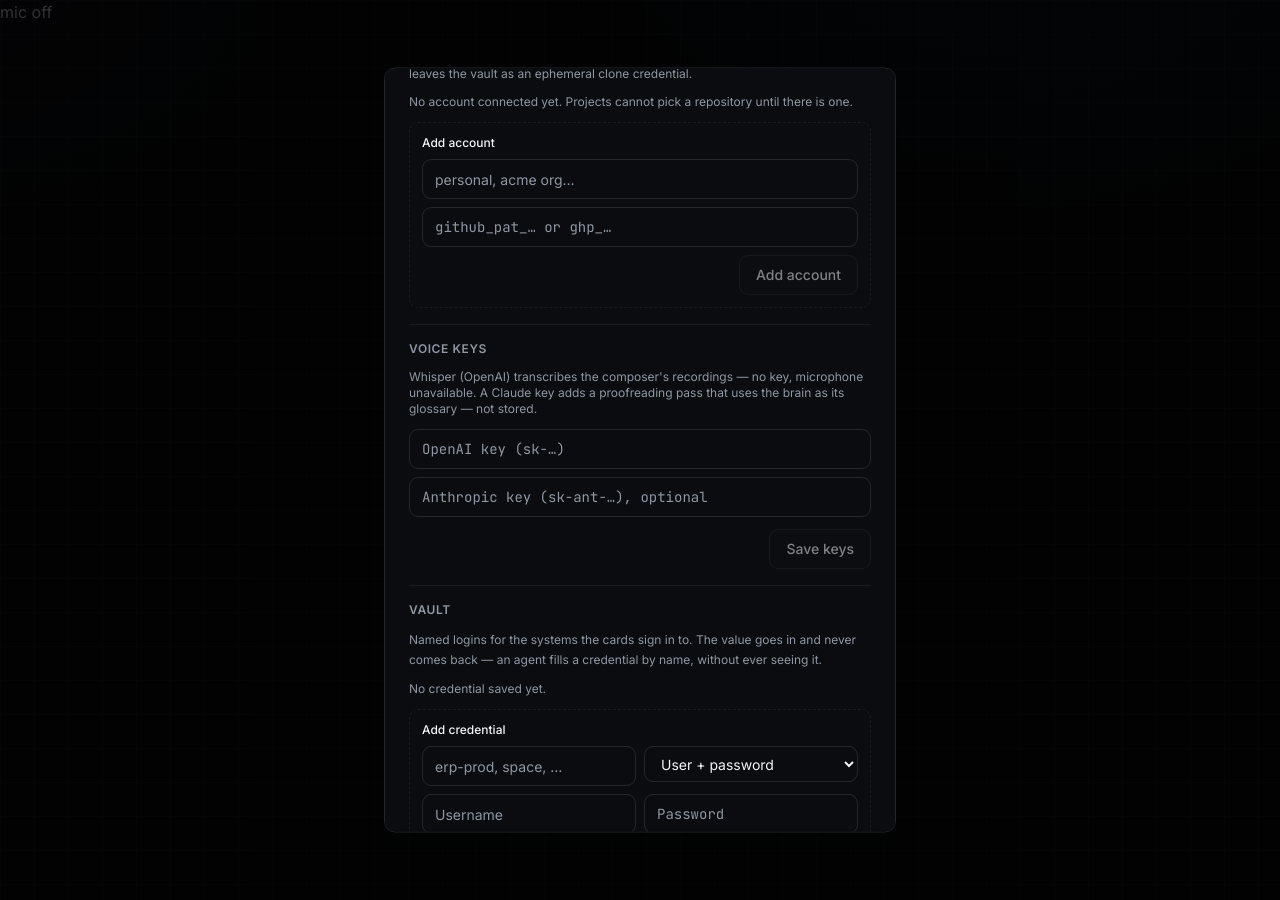
Test: SettingsDialog › a saved OpenAI key turns the composer's microphone on, not just the dialog's line
(page scrolled)
Expected: the text "mic off" is shown, [0,2,52,22]
Type "sk-openai-123" into the password field named "OpenAI API key" at (640, 450), box [409,430,871,470]
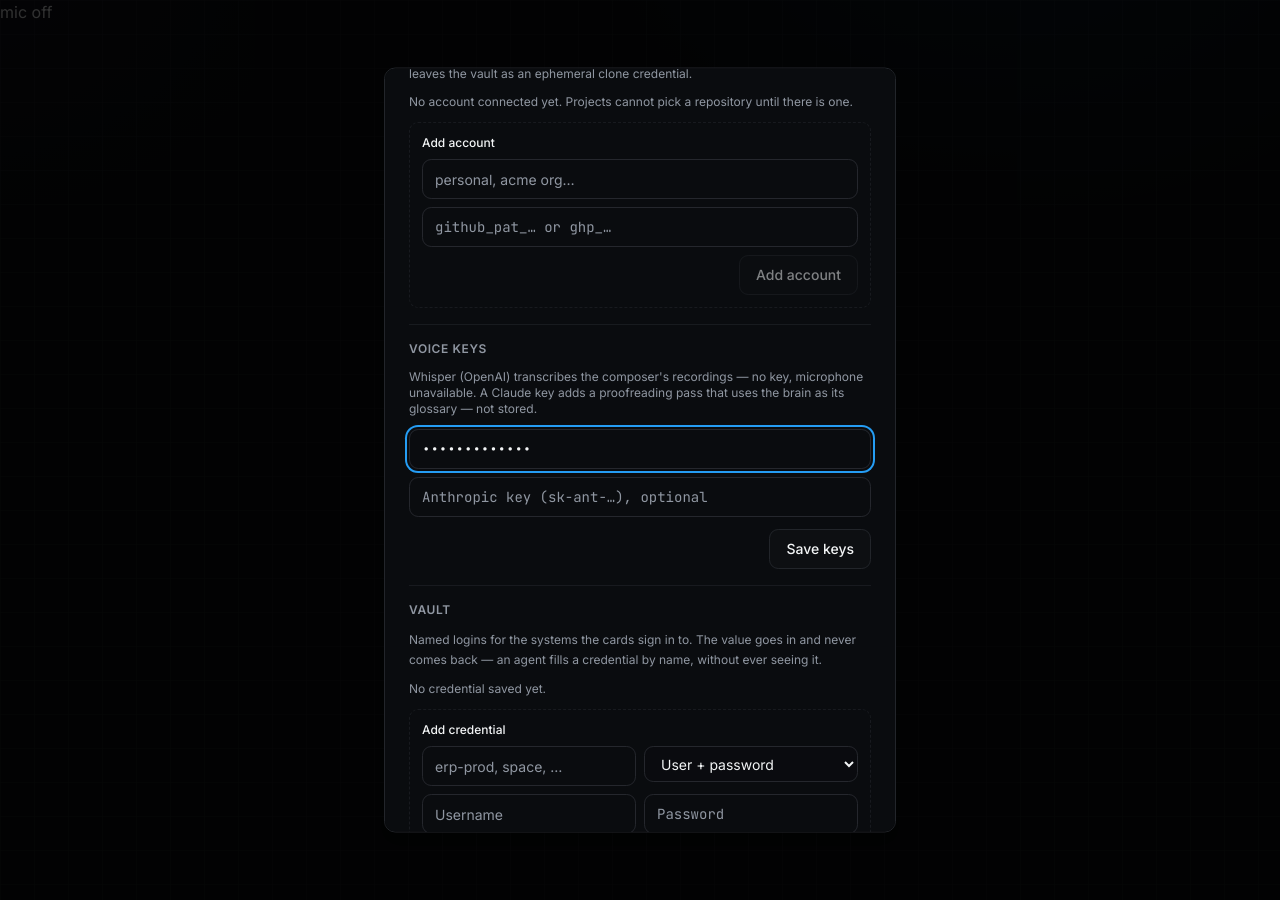
Click the button "Save keys" at (820, 550), box [769,530,871,570]
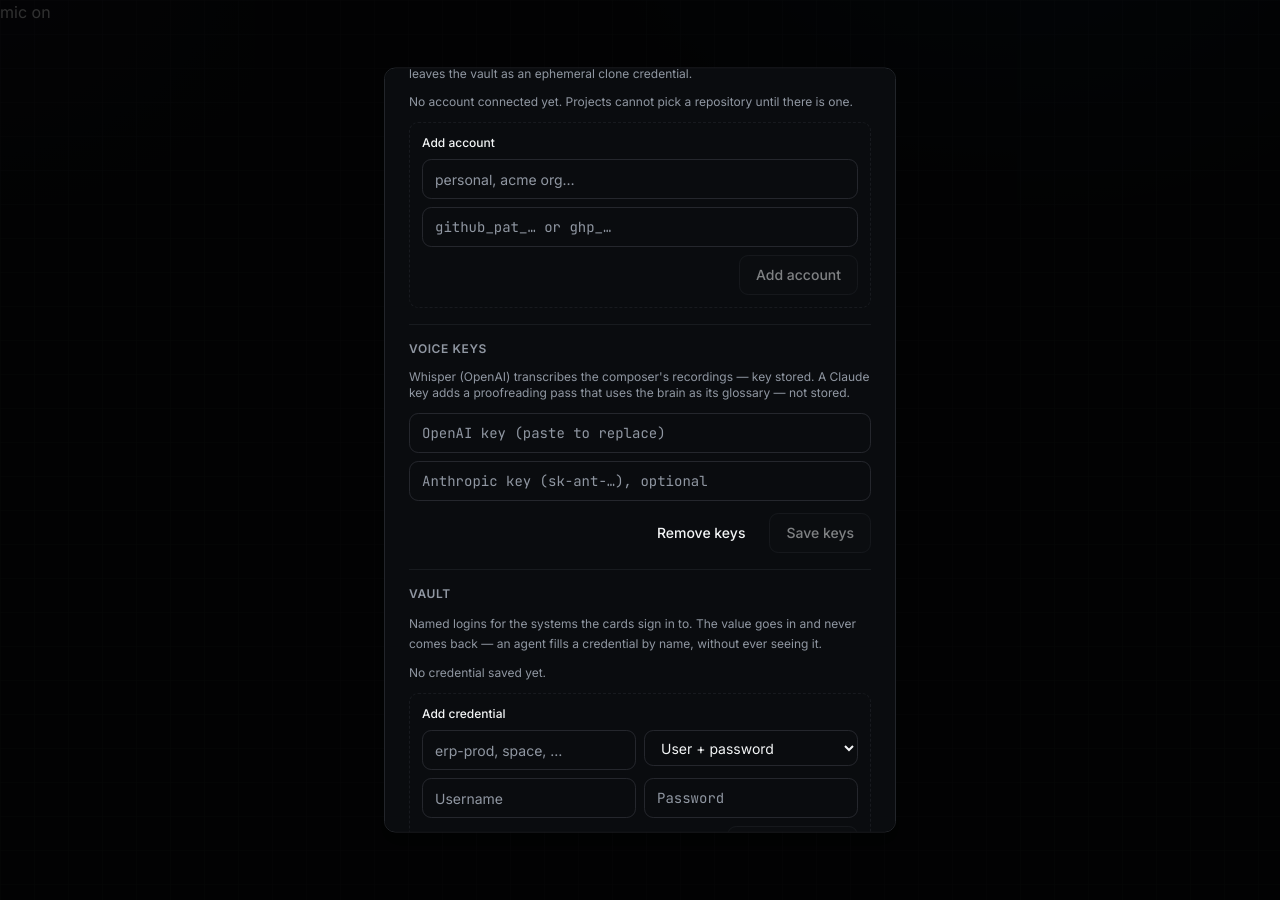
Now the text "mic on" is shown, box [0,2,51,22]
